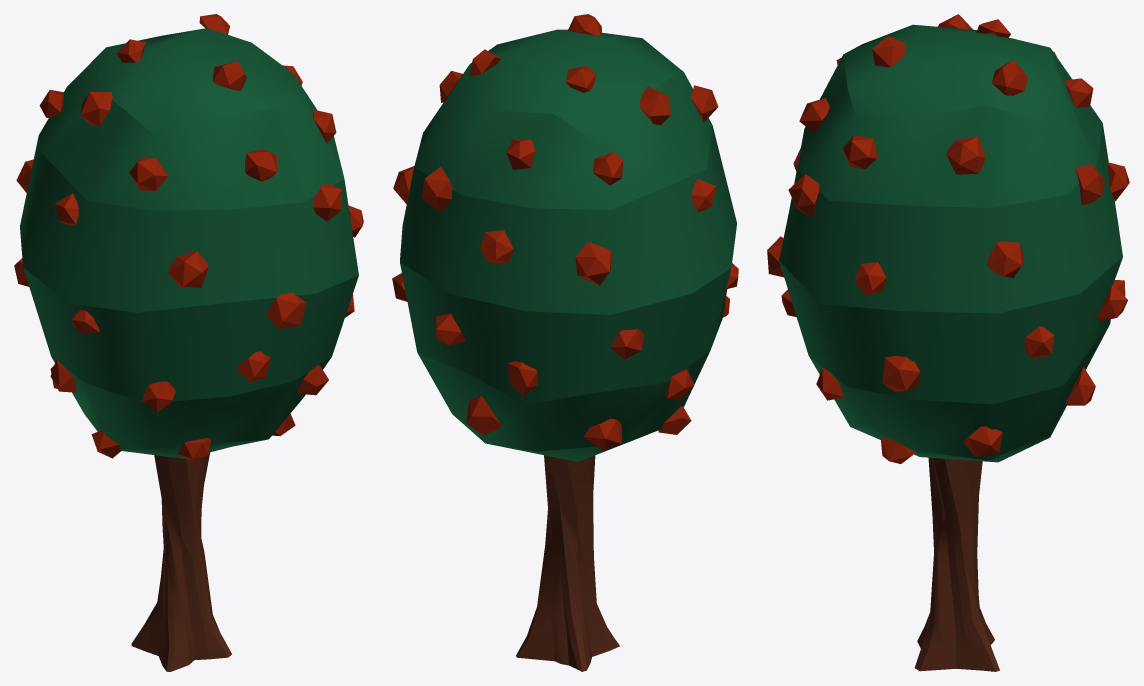
The model's file is Tree_2_High_WF.fbx.
3 renders of one model, left to right at view 1: azimuth 30°, elevation 25°; view 2: azimuth 150°, elevation 25°; view 3: azimuth 270°, elevation 25°, orthographic. The views are drawn at different scales.
Parts seen in each view (by area): view 1: Tree_2_High_WF; view 2: Tree_2_High_WF; view 3: Tree_2_High_WF.
Boxes of the visible parts, x1,y1,x2,y2 form: Tree_2_High_WF: [14, 14, 363, 671]; Tree_2_High_WF: [392, 14, 738, 671]; Tree_2_High_WF: [767, 14, 1129, 671].
Size of the model in its own units: 102 by 205 by 108.
